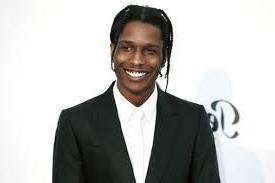Sober: (112, 29, 161, 84)
